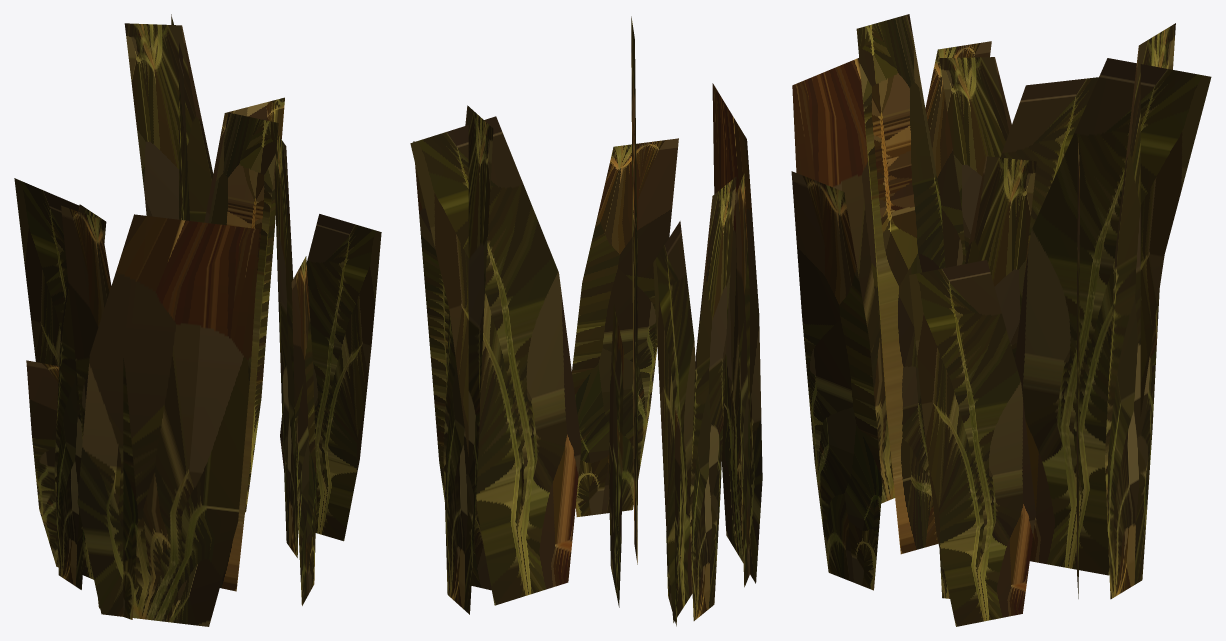
Rendered from meadow_grass_001_a_LOD2.gltf.
The picture shows the model from 3 angles, left to right: view 1: azimuth 30°, elevation 25°; view 2: azimuth 150°, elevation 25°; view 3: azimuth 270°, elevation 25°; orthographic projection. The views are drawn at different scales.
Visible parts, largest first — view 1: meadow_grass_001_a_LOD2; view 2: meadow_grass_001_a_LOD2; view 3: meadow_grass_001_a_LOD2.
Boxes of the visible parts, x1=… form: meadow_grass_001_a_LOD2: x1=14, y1=14, x2=381, y2=626; meadow_grass_001_a_LOD2: x1=410, y1=16, x2=762, y2=626; meadow_grass_001_a_LOD2: x1=791, y1=14, x2=1211, y2=626.
Bounding box in the file's own units: 0.6169 × 0.9755 × 0.6902.
1 material, 1 textured.
